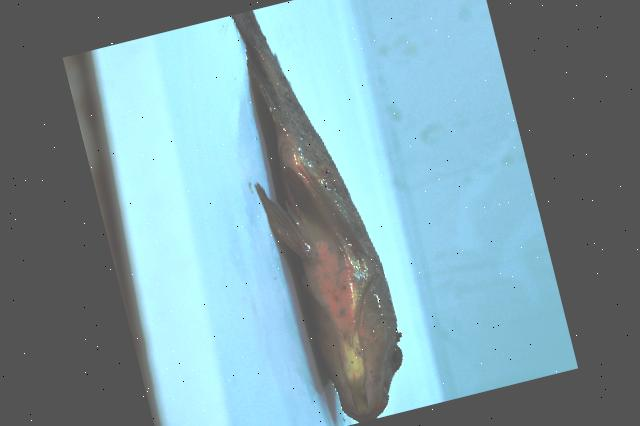Columnaris Disease: (231, 11, 401, 423)
